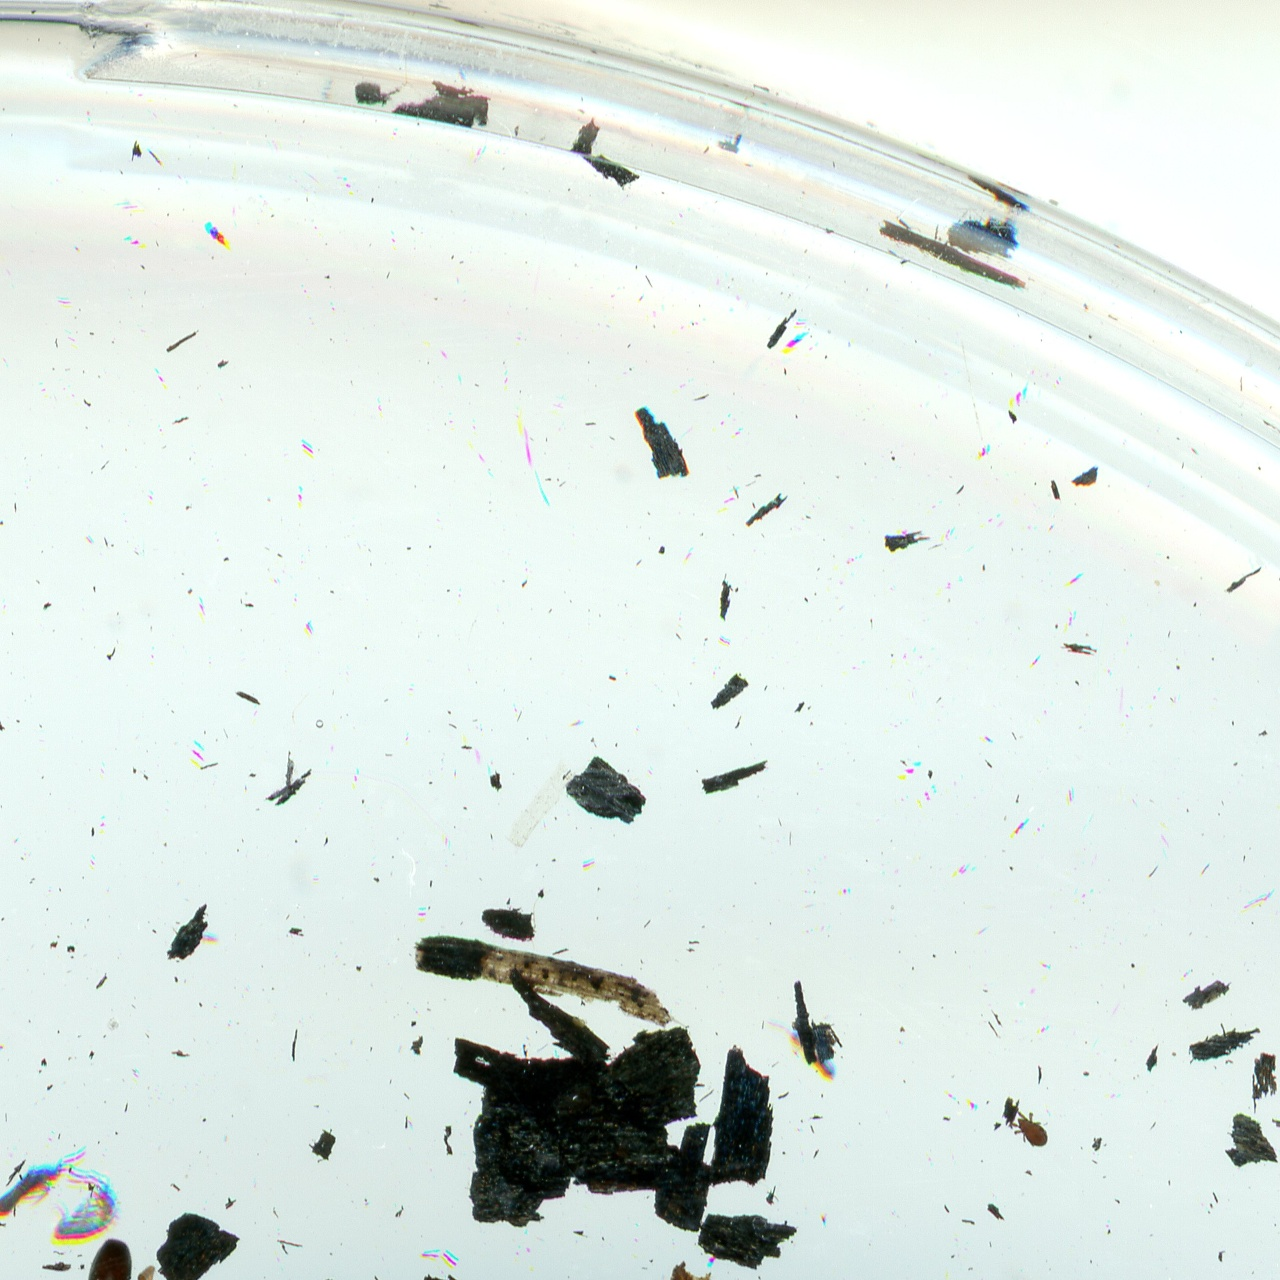arthropod: (0, 1123, 95, 1245), (50, 1165, 127, 1253), (23, 1238, 173, 1280), (768, 1015, 844, 1084), (1009, 1108, 1050, 1150)
